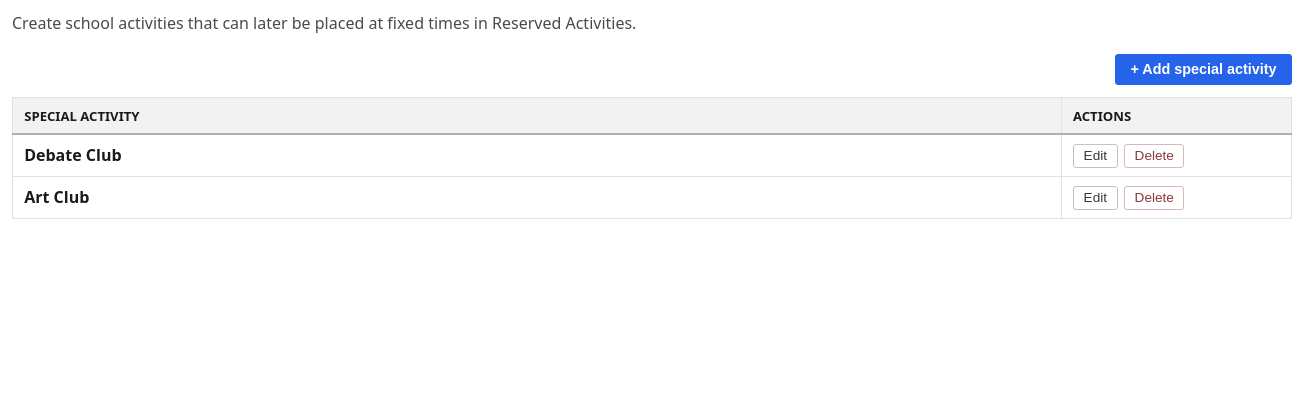
Scenario: SpecialActivitiesPanel › reveals the create form only after clicking Add special activity
This screenshot has width=1304, height=412.
expect the column heading "Debate Club" is shown: met, box [12, 134, 1061, 177]
expect the field labelled "Special activity name" is not shown: met
Click the button "+ Add special activity" at (1204, 69), box [1115, 54, 1292, 85]
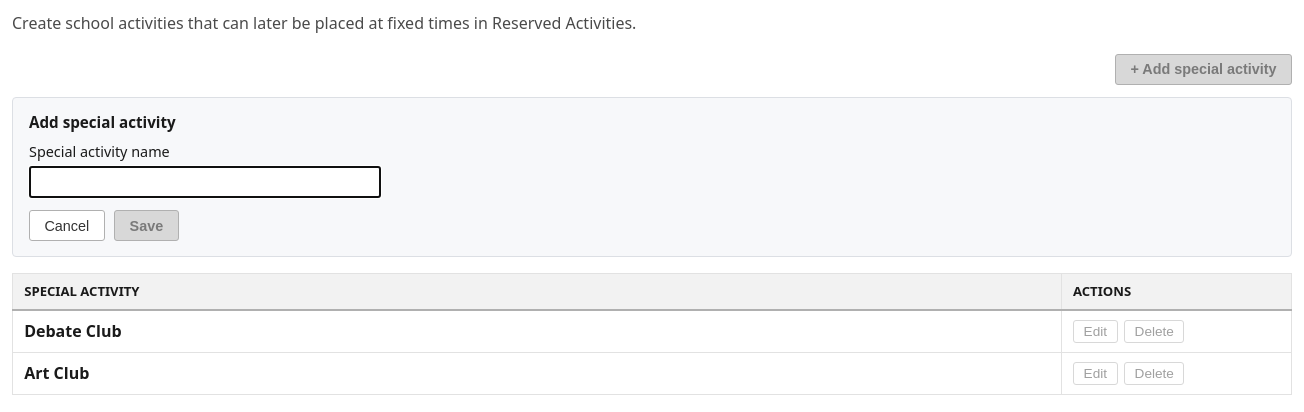
expect the field labelled "Special activity name" is shown: met, box [29, 166, 381, 198]
